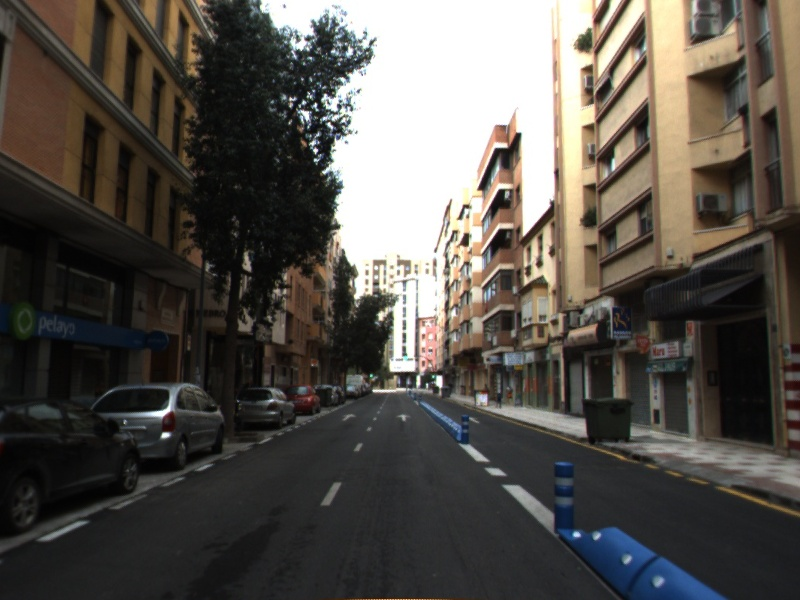STRAIGHT: (395, 412, 412, 423), (340, 412, 358, 422)
